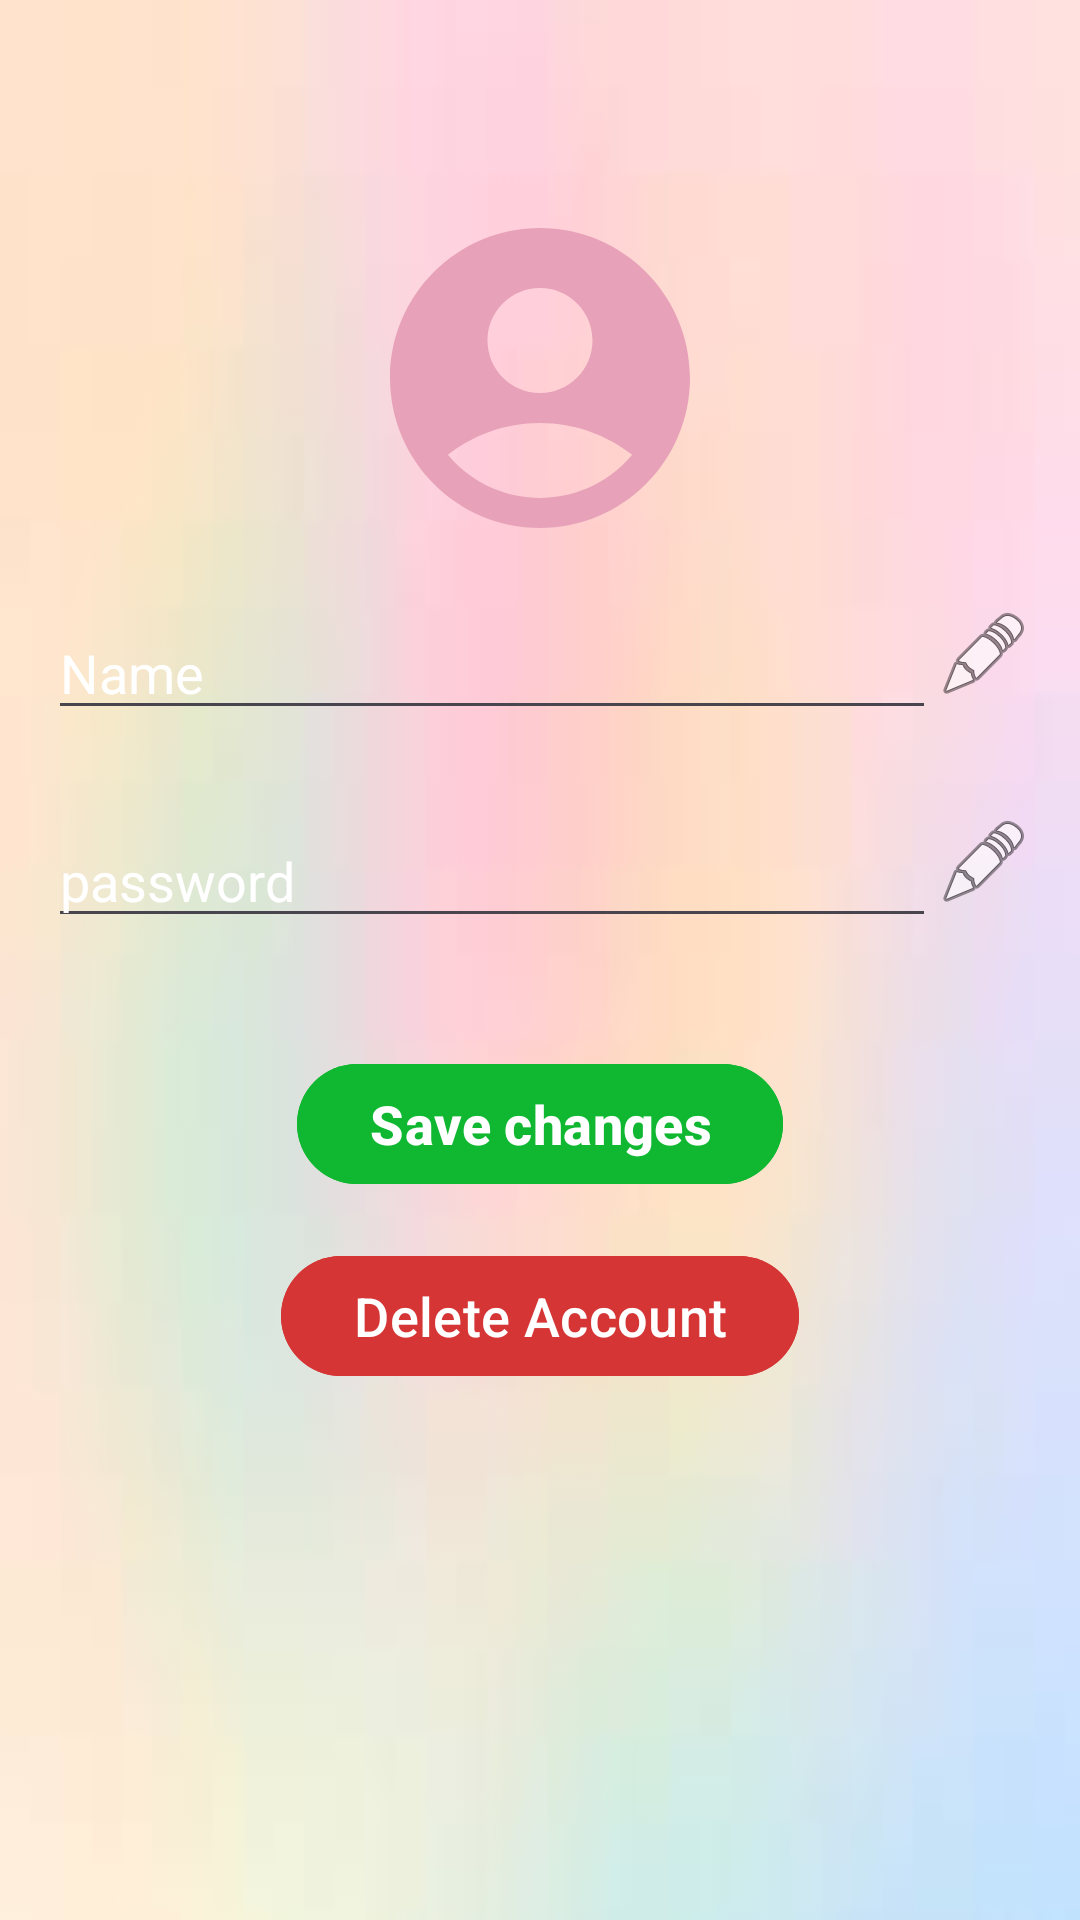

Screen size 1080px x 1920px. Icon name, then its box in pixels as (x1, y1, x2, y2):
account circle: (390, 228, 690, 528)
edit: (943, 613, 1024, 694), (943, 821, 1024, 902)
